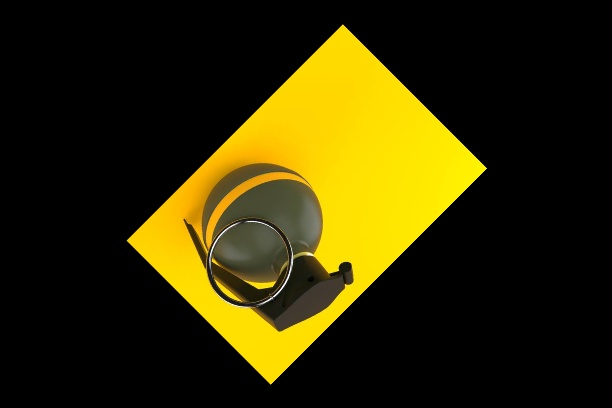e1: (180, 160, 357, 332)
